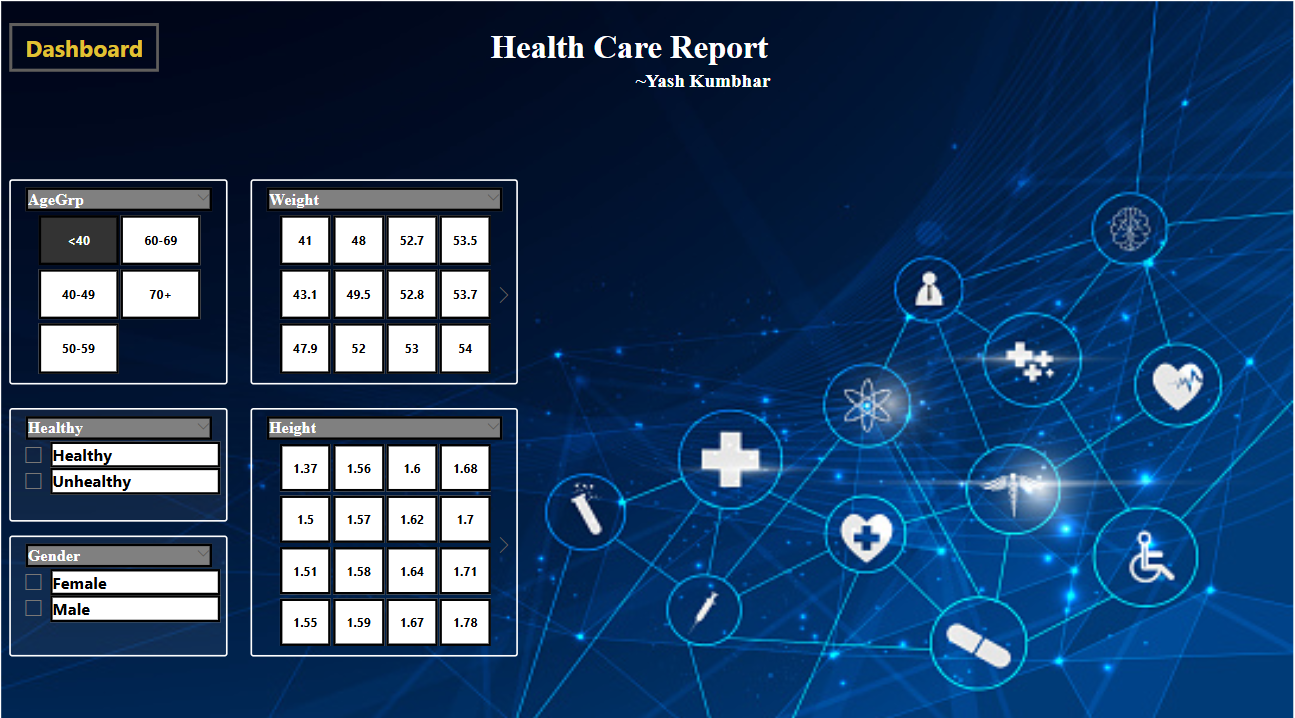

What the dashboard file says about the page in this screenshot:
{"tool":"powerbi","page":{"name":"Home","canvas":[1280,720],"ordinal":0},"visuals":[{"type":"image","box":[0,0,1280.3,720.2],"z":0},{"type":"actionButton","title":"Dashboard","box":[15.9,29.3,146.7,47.7],"z":1000},{"type":"textbox","box":[196.9,29.3,851.1,137],"z":2000},{"type":"slicer","fields":{"Values":["Sample_Data.AgeGrp"]},"box":[15.9,182.2,214,200.5],"z":3000},{"type":"slicer","fields":{"Values":["Sample_Data.Gender"]},"box":[15.9,530.7,214,118.6],"z":4000},{"type":"slicer","fields":{"Values":["Sample_Data.Weight"]},"box":[251.9,182.2,261.7,200.5],"z":5000},{"type":"slicer","fields":{"Values":["Sample_Data.Height"]},"box":[251.9,406,261.7,243.3],"z":6000},{"type":"slicer","fields":{"Values":["Sample_Data.Healthy"]},"box":[15.9,406,214,111.3],"z":7000}]}

Visuals, with their boxes in screenshot pixels (x1, y1, x2, y2), scaled from the page's 1280x720 canvas onto the 1295x718 screenshot:
image: [x1=0, y1=0, x2=1294, y2=717]
"Dashboard" actionButton: [x1=16, y1=29, x2=165, y2=77]
textbox: [x1=199, y1=29, x2=1060, y2=166]
slicer - Sample_Data.AgeGrp: [x1=16, y1=182, x2=233, y2=382]
slicer - Sample_Data.Gender: [x1=16, y1=529, x2=233, y2=647]
slicer - Sample_Data.Weight: [x1=255, y1=182, x2=520, y2=382]
slicer - Sample_Data.Height: [x1=255, y1=405, x2=520, y2=647]
slicer - Sample_Data.Healthy: [x1=16, y1=405, x2=233, y2=516]
